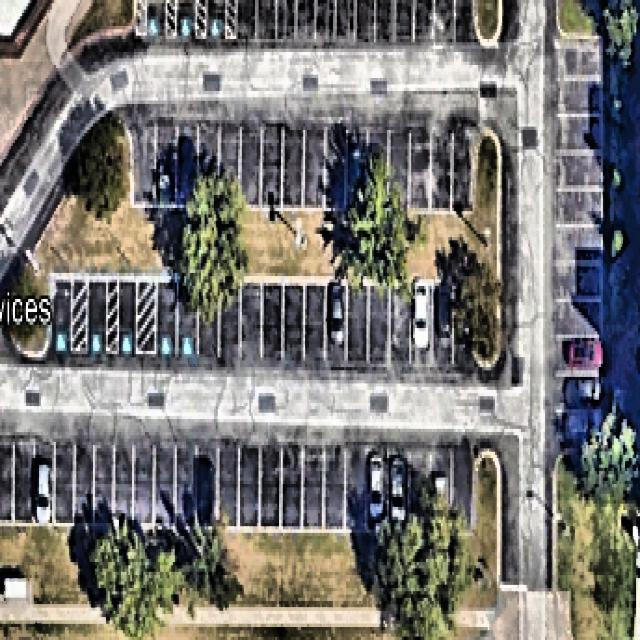Car: (325, 278, 345, 352), (34, 452, 52, 528), (415, 276, 430, 357), (564, 340, 606, 368), (390, 455, 406, 520), (368, 458, 384, 518), (437, 289, 451, 351)
Empty: (131, 121, 155, 202), (556, 114, 602, 152), (283, 283, 305, 361), (555, 228, 602, 264), (368, 282, 388, 366), (240, 282, 261, 362), (238, 446, 259, 526), (325, 451, 346, 528), (239, 131, 261, 204), (282, 446, 302, 526), (303, 449, 323, 528), (431, 138, 453, 209), (158, 125, 178, 203), (390, 285, 411, 359), (261, 288, 282, 362), (556, 153, 600, 188), (13, 440, 32, 520), (55, 444, 74, 523), (135, 446, 154, 525), (304, 284, 324, 359), (218, 450, 238, 525), (555, 44, 600, 77), (263, 127, 282, 205), (261, 447, 280, 525), (410, 134, 430, 208), (157, 282, 177, 356), (156, 446, 174, 526), (555, 191, 600, 223), (305, 131, 324, 206), (347, 286, 365, 364), (556, 301, 598, 333), (452, 137, 472, 204), (118, 283, 136, 357), (75, 446, 92, 524), (284, 130, 302, 203), (558, 79, 599, 111), (53, 282, 71, 354), (115, 446, 133, 515), (89, 282, 106, 354), (94, 446, 112, 511), (433, 0, 456, 42), (0, 442, 13, 516), (334, 0, 355, 45), (316, 0, 336, 45), (455, 0, 474, 45), (277, 0, 296, 42), (355, 0, 374, 42), (394, 0, 413, 42), (255, 0, 275, 39), (236, 0, 257, 36), (296, 0, 314, 42), (376, 0, 394, 42), (415, 0, 433, 42), (177, 0, 197, 36), (147, 0, 164, 39), (207, 0, 223, 36)
